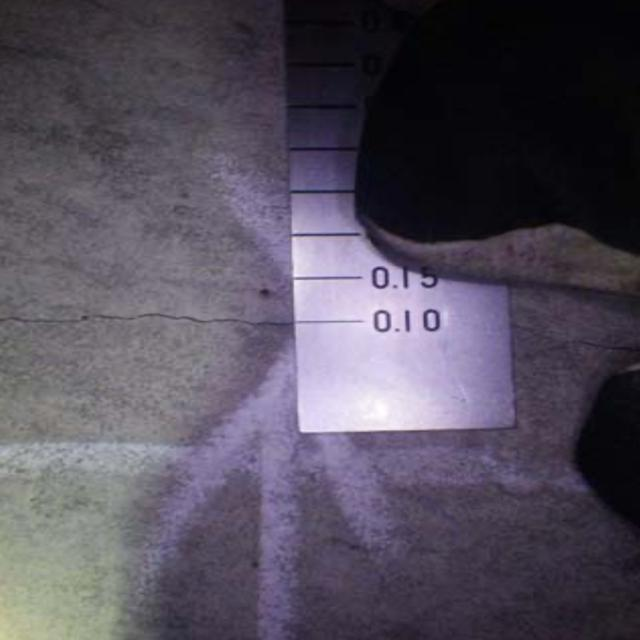crack: (4, 287, 299, 344), (518, 305, 640, 370)
